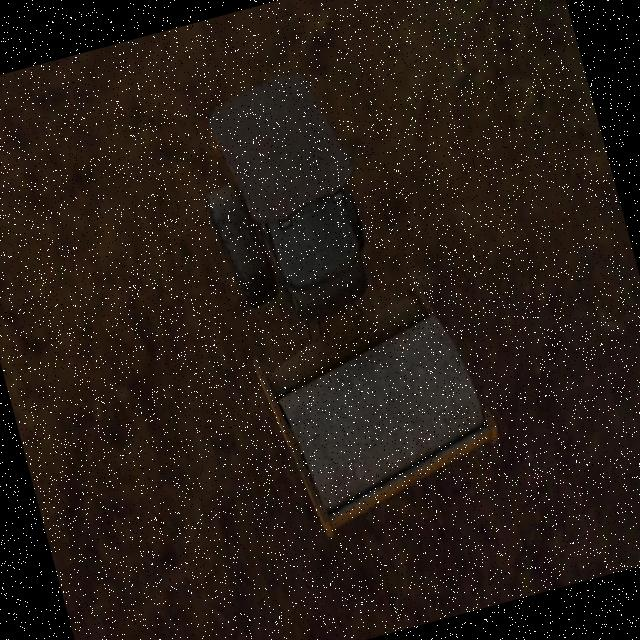Roller: (177, 43, 514, 547)
